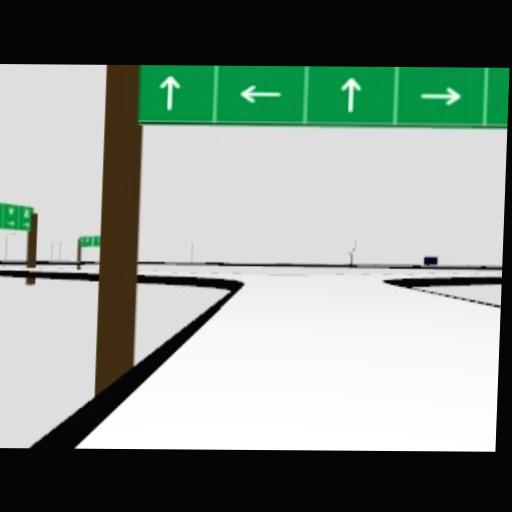Left: (237, 84, 282, 104), (160, 75, 176, 85)
Right: (419, 86, 462, 106)
Straight: (338, 77, 363, 113), (158, 75, 180, 109)
